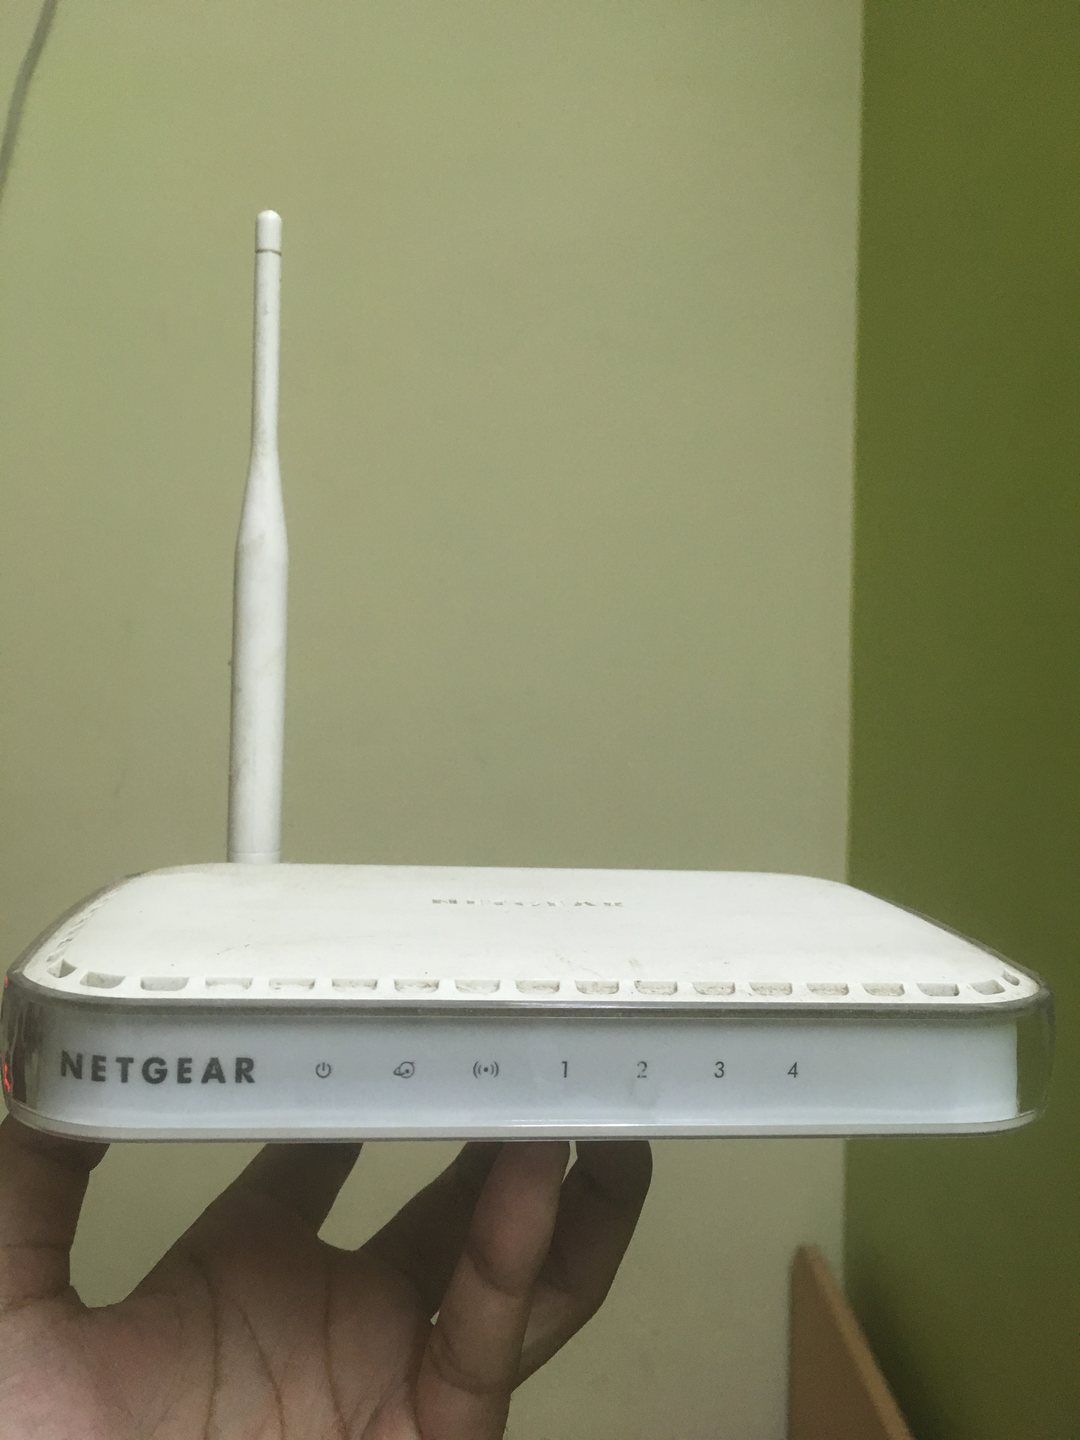NETGEAR: (54, 1044, 263, 1089)
modem: (12, 964, 1058, 1138)
